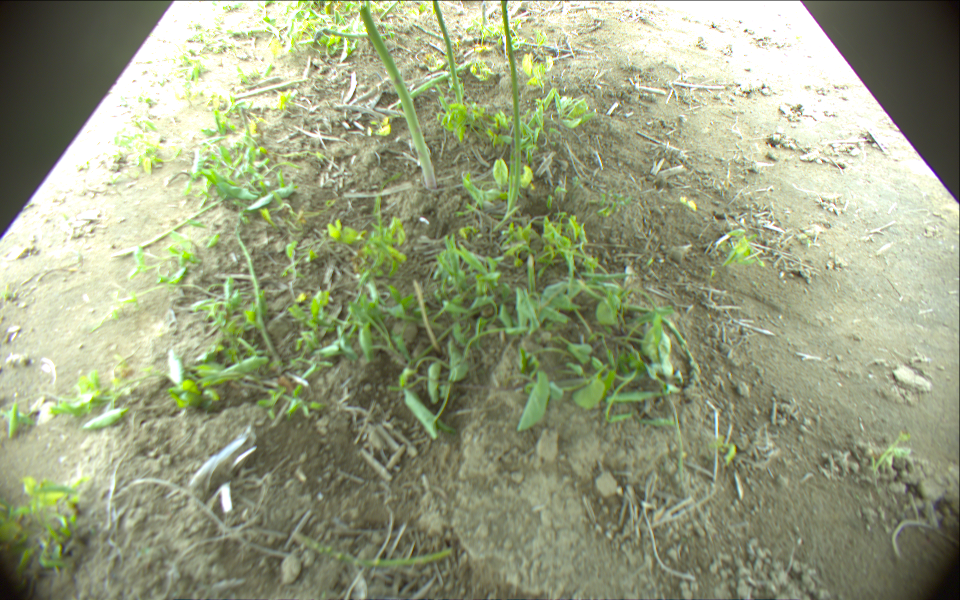aspa: (357, 5, 438, 187), (233, 215, 286, 373), (118, 192, 232, 259), (292, 533, 451, 569), (502, 1, 521, 219), (429, 1, 465, 114), (393, 61, 471, 112), (226, 74, 313, 101), (320, 28, 384, 41), (378, 1, 403, 20)
